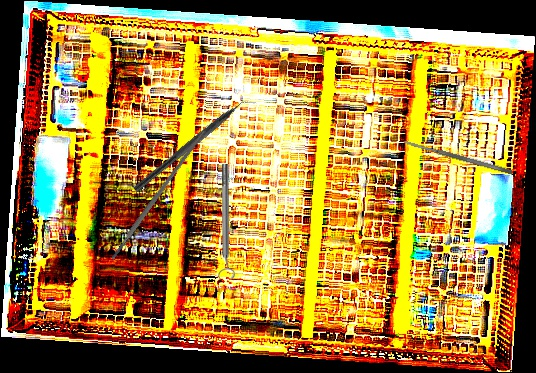Chopper: (132, 91, 259, 201)
Fixation Ring: (217, 164, 235, 279)
Scalpel Handle: (108, 128, 208, 261)
Spatula Surgical: (403, 138, 513, 176)
